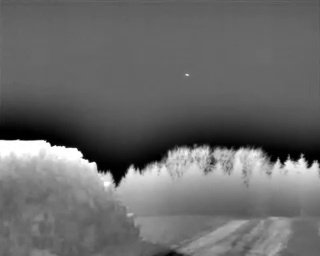AIRPLANE: (183, 71, 191, 79)
